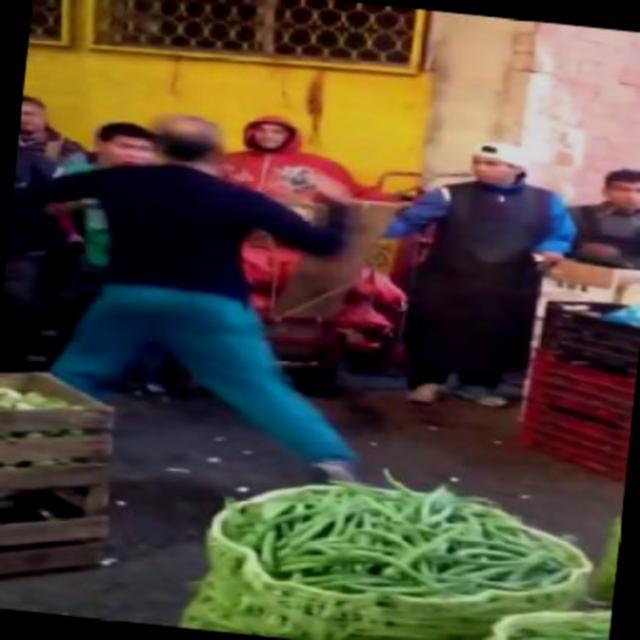non-fight: (372, 127, 582, 404)
